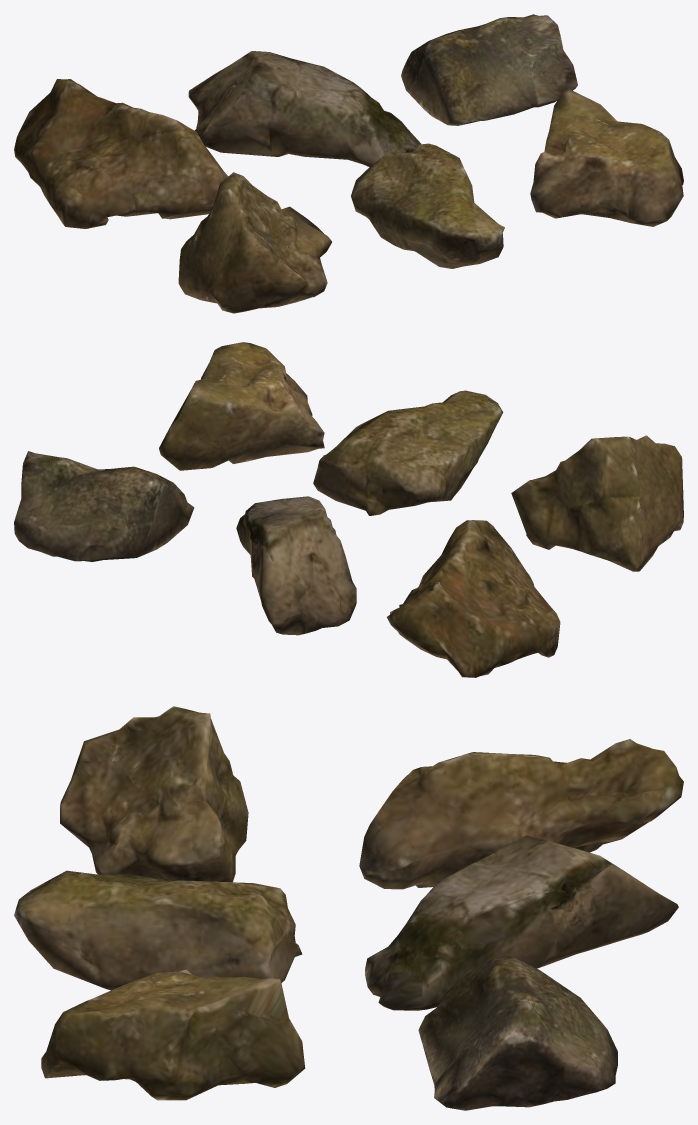
File: mossy_rocks.glb
The picture shows the model from 3 angles, top to bottom: view 1: azimuth 30°, elevation 25°; view 2: azimuth 150°, elevation 25°; view 3: azimuth 270°, elevation 25°; orthographic projection. The views are drawn at different scales.
Visible parts, largest first — view 1: rock_moss_set_01_rock01; view 2: rock_moss_set_01_rock01; view 3: rock_moss_set_01_rock01.
Boxes of the visible parts, <box> form: rock_moss_set_01_rock01: <box>14,14,683,313</box>; rock_moss_set_01_rock01: <box>14,342,683,677</box>; rock_moss_set_01_rock01: <box>14,706,683,1110</box>.
Bounding box in the file's own units: 8 × 1.75 × 6.94.
Materials: 1 (1 with a texture image).
